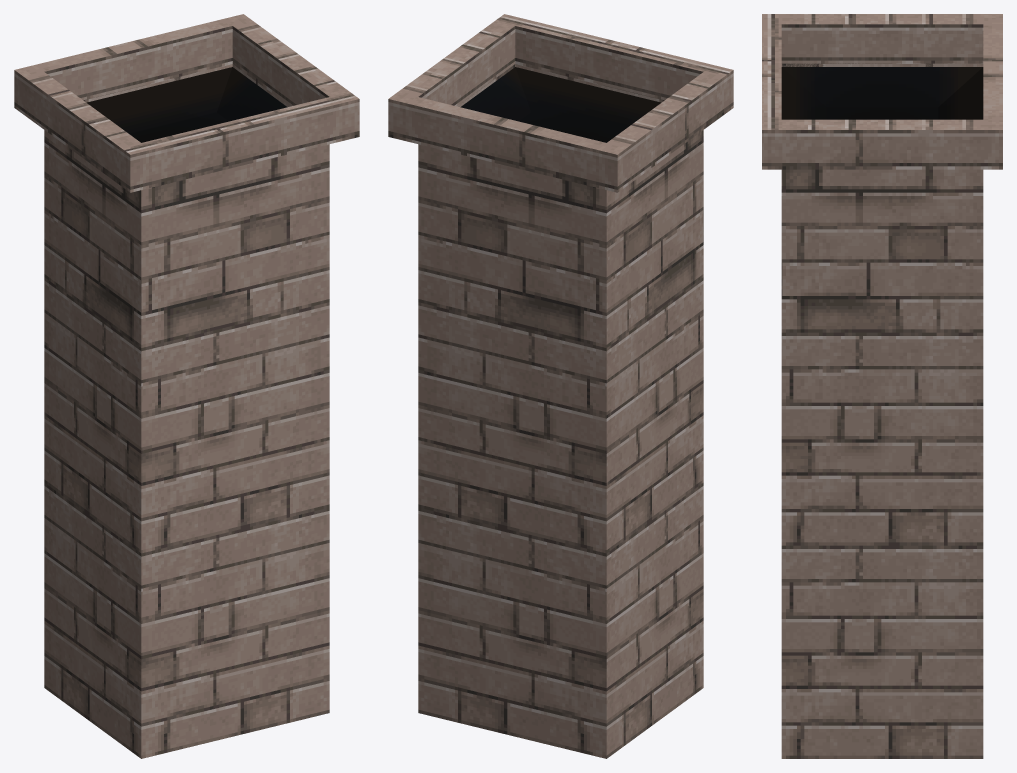
Rendered from chimney_end.glb.
3 renders of one model, left to right at view 1: azimuth 30°, elevation 25°; view 2: azimuth 150°, elevation 25°; view 3: azimuth 270°, elevation 25°, orthographic. The views are drawn at different scales.
Visible parts, largest first — view 1: chimney_end; view 2: chimney_end; view 3: chimney_end.
Part boxes in pixels (bbox=[...]): chimney_end: bbox=[14, 14, 359, 758]; chimney_end: bbox=[388, 14, 733, 758]; chimney_end: bbox=[762, 14, 1002, 758].
Bounding box in the file's own units: 1.17 × 3 × 1.02.
Materials: 1 (1 with a texture image).
